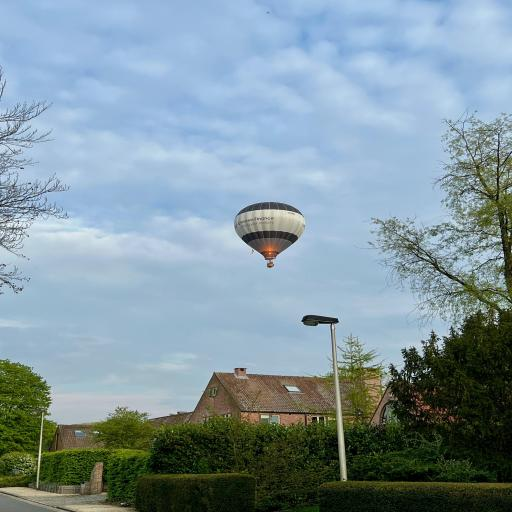hot air ballon: (234, 201, 306, 268)
